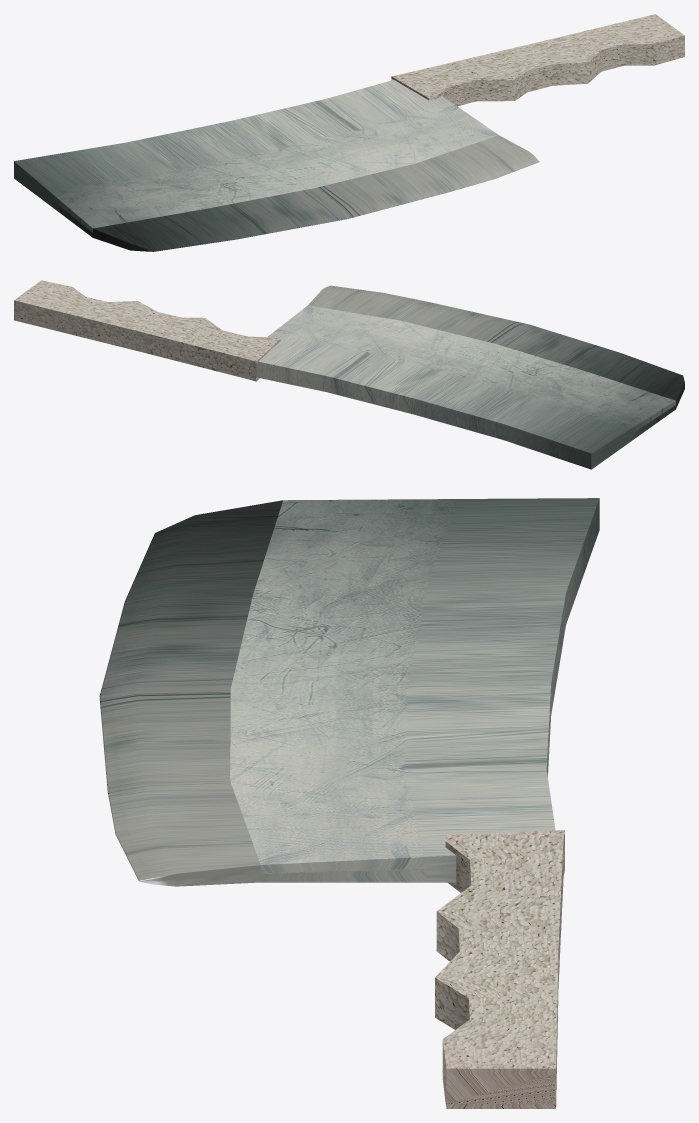
Rendered from butcher knife.fbx.
The picture shows the model from 3 angles, top to bottom: view 1: azimuth 30°, elevation 25°; view 2: azimuth 150°, elevation 25°; view 3: azimuth 270°, elevation 25°; orthographic projection. The views are drawn at different scales.
Visible parts, largest first — view 1: polySurface7; view 2: polySurface7; view 3: polySurface7.
Boxes of the visible parts, box(x1,y1,x2,y2) form: polySurface7: box(14, 14, 684, 251); polySurface7: box(14, 280, 684, 469); polySurface7: box(99, 498, 599, 1108).
Bounding box in the file's own units: 62.59 × 2.02 × 22.83.
